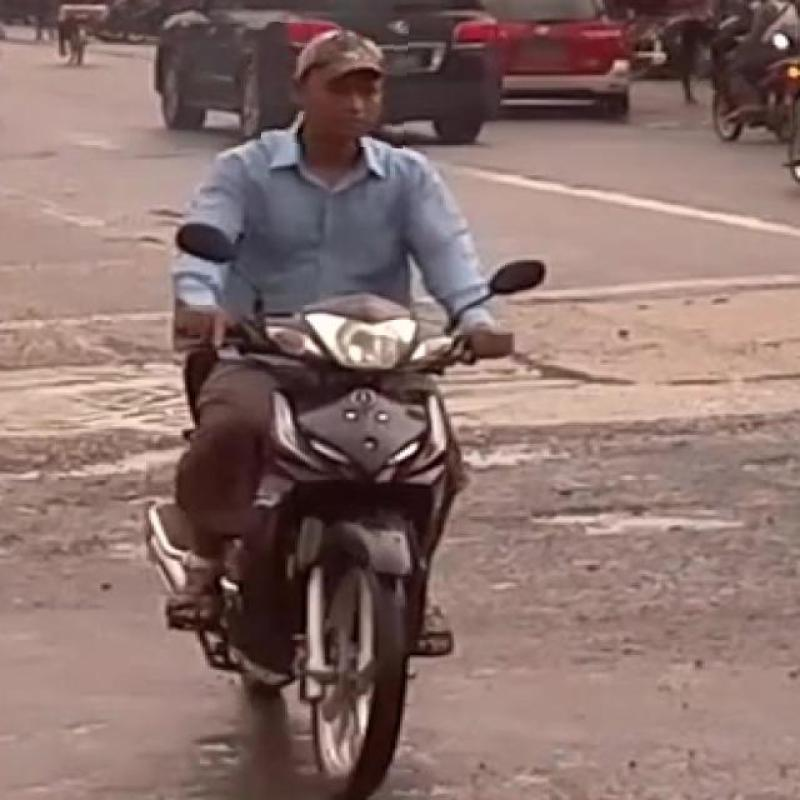nohelmet: (262, 24, 408, 148)
